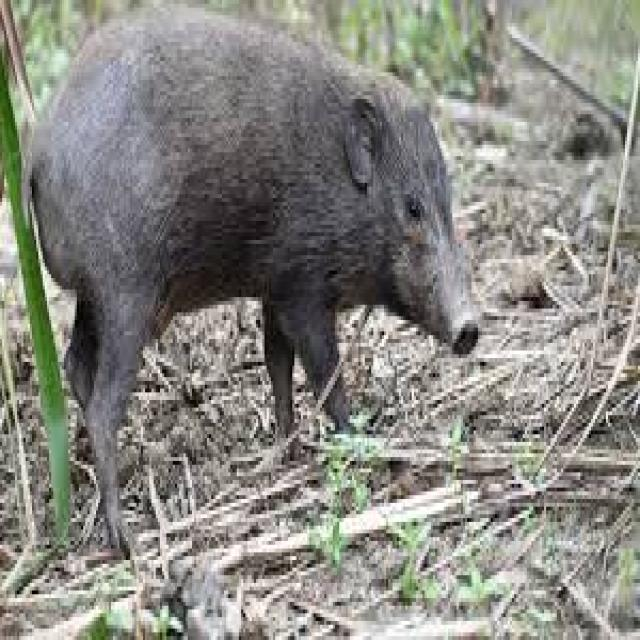Pig: (24, 0, 482, 568)
